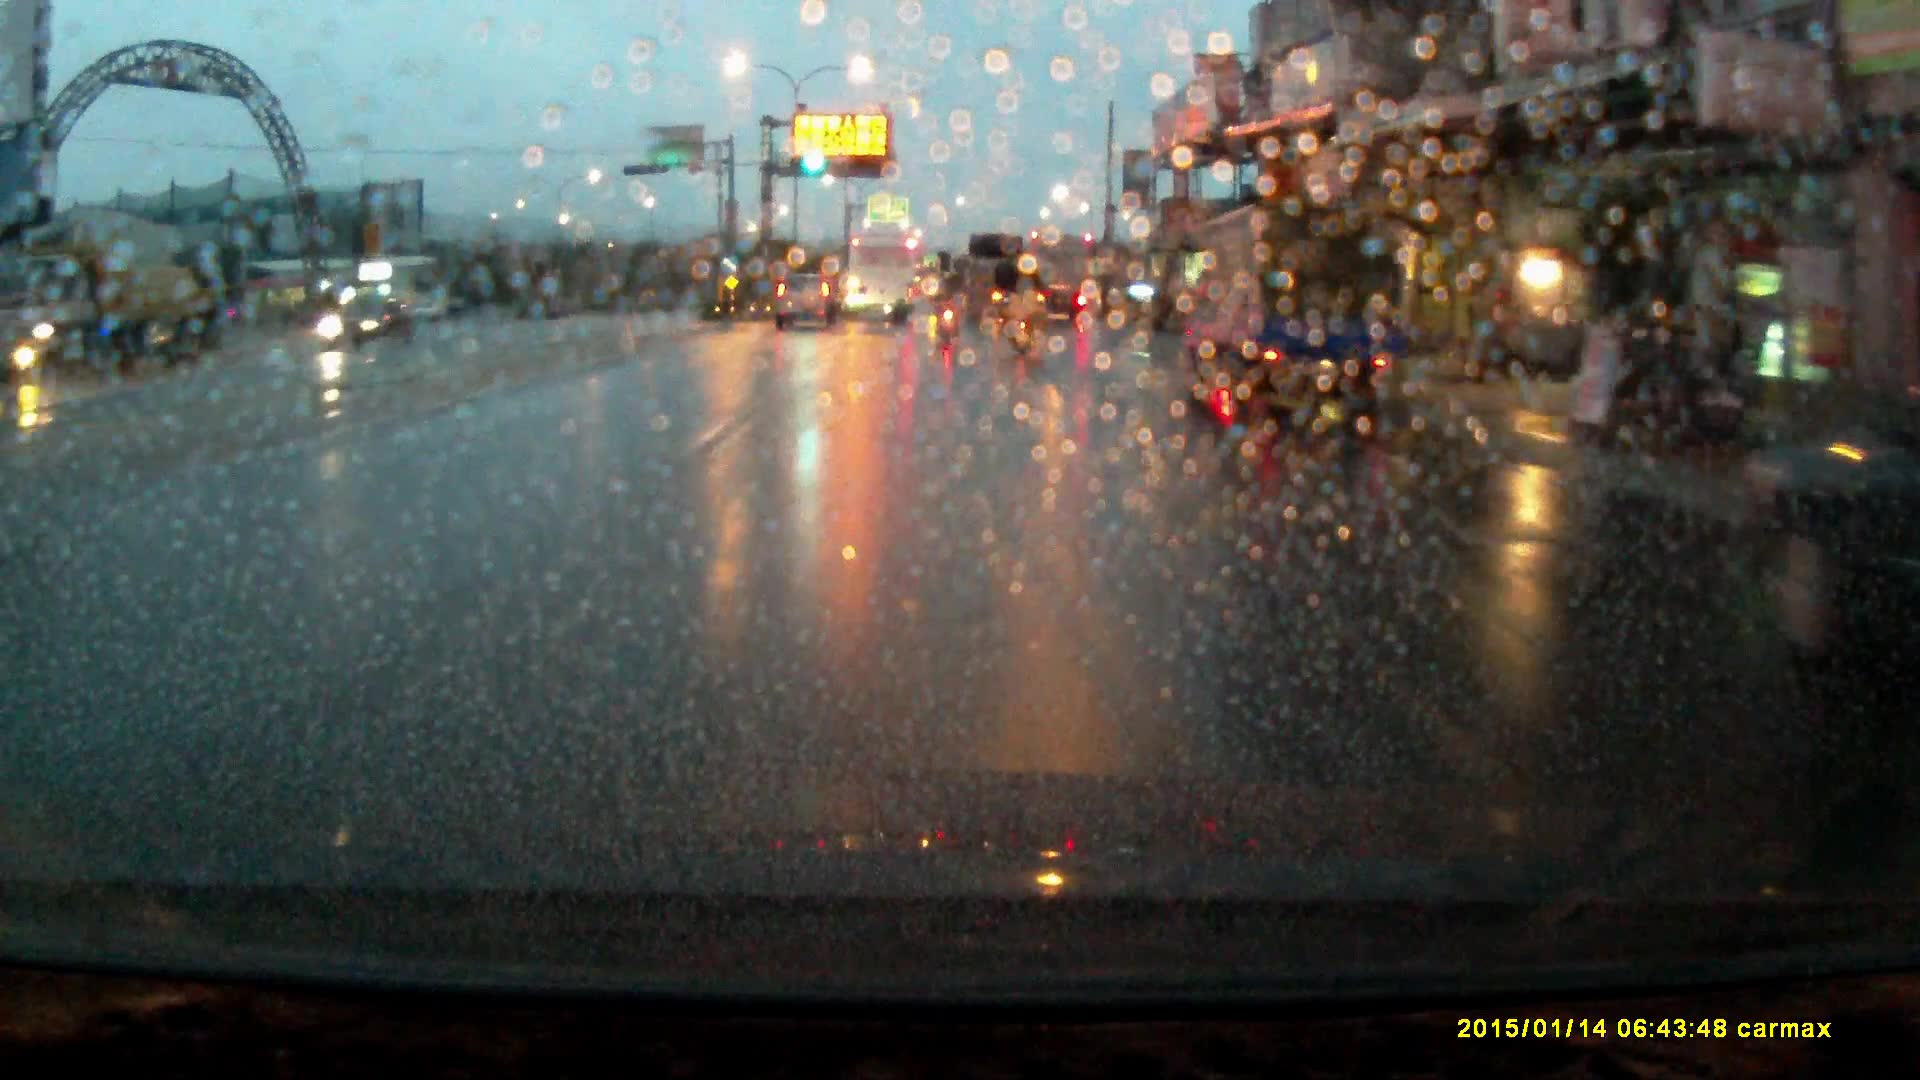rider: (1003, 276, 1044, 361), (932, 275, 962, 342)
vehicle: (1175, 206, 1414, 429), (7, 245, 218, 371), (845, 236, 918, 328), (968, 236, 1042, 326), (322, 292, 412, 357), (1031, 240, 1096, 325), (775, 271, 842, 330)
